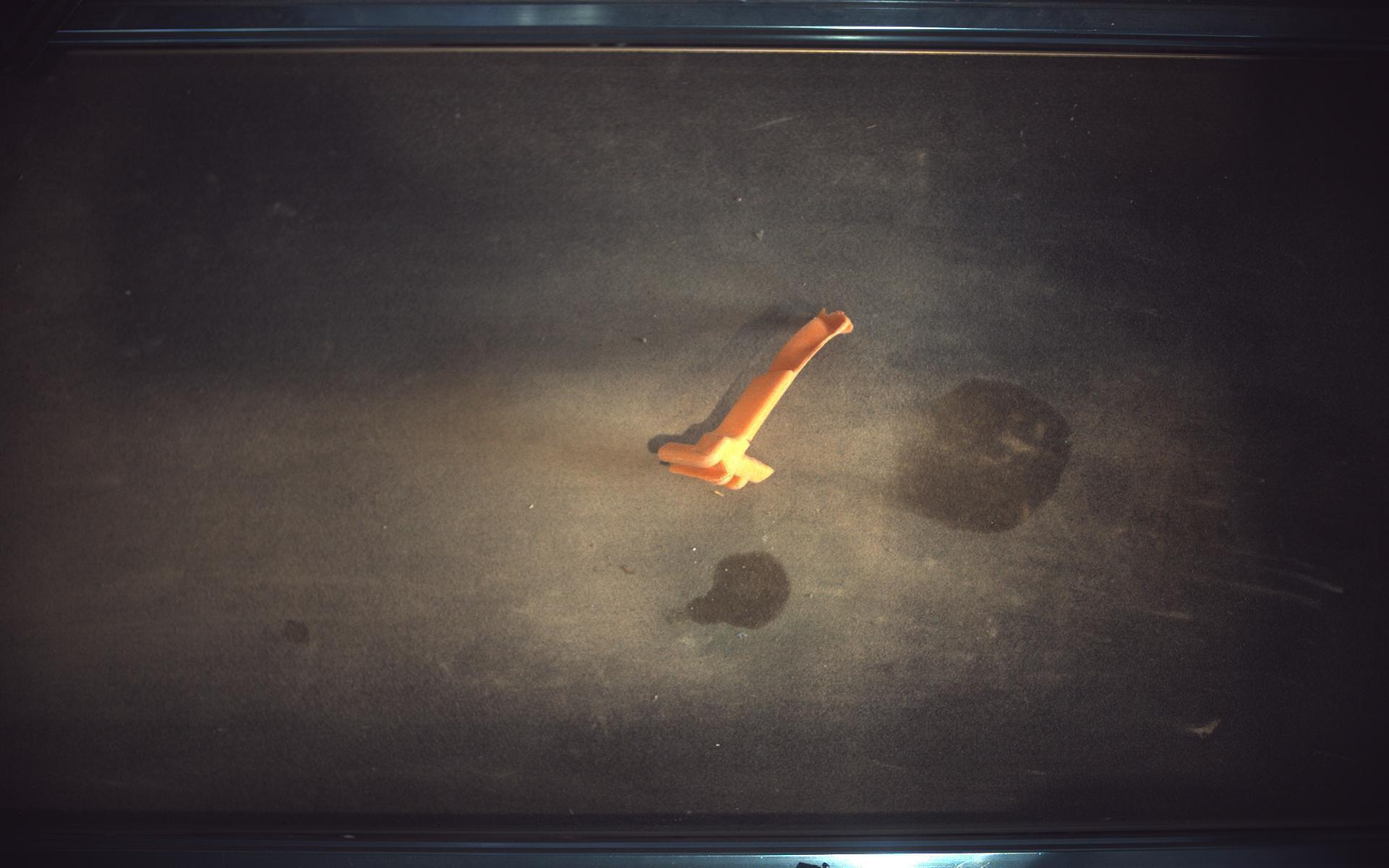general_w: (658, 308, 854, 490)
